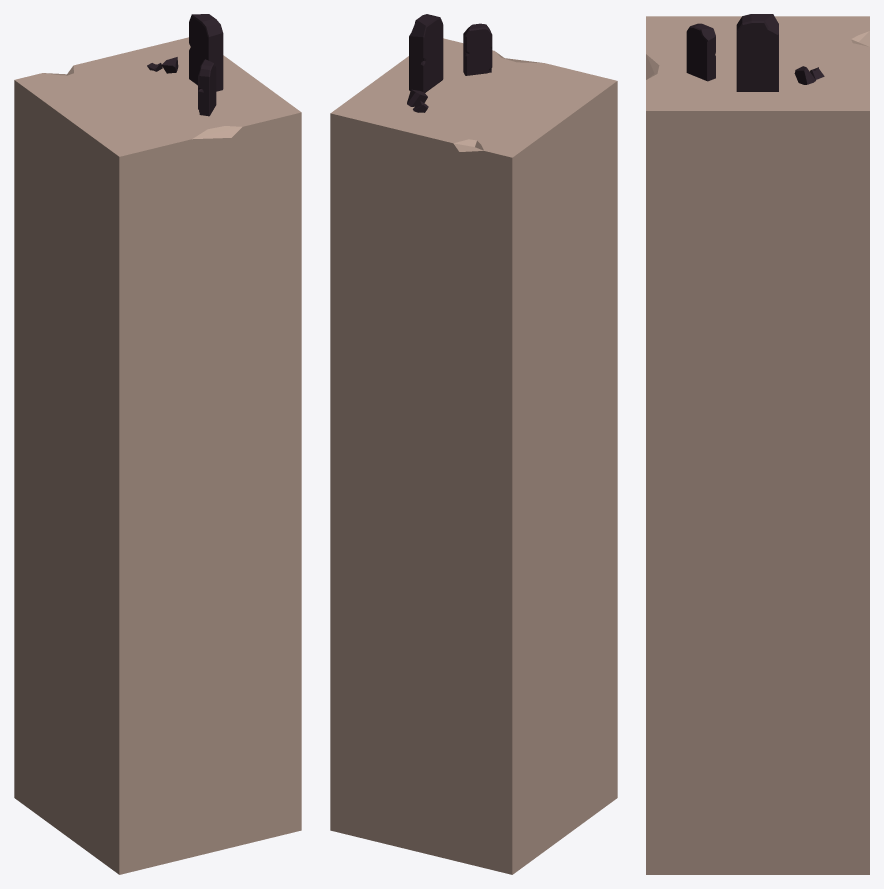
The model's file is Info.fbx.
The picture shows the model from 3 angles, left to right: view 1: azimuth 30°, elevation 25°; view 2: azimuth 150°, elevation 25°; view 3: azimuth 270°, elevation 25°; orthographic projection. The views are drawn at different scales.
Visible parts, largest first — view 1: Plataforma-L (3), Info (1), Info (1).001; view 2: Plataforma-L (3), Info (1), Info (1).001; view 3: Plataforma-L (3), Info (1), Info (1).001.
Boxes of the visible parts, bbox=[...] form: Plataforma-L (3): bbox=[14, 37, 301, 874]; Info (1): bbox=[189, 14, 223, 91]; Info (1).001: bbox=[198, 59, 216, 116]; Plataforma-L (3): bbox=[330, 38, 617, 874]; Info (1): bbox=[409, 14, 443, 92]; Info (1).001: bbox=[463, 23, 492, 75]; Plataforma-L (3): bbox=[646, 16, 869, 874]; Info (1): bbox=[736, 14, 778, 91]; Info (1).001: bbox=[686, 23, 715, 81].
Bounding box in the file's own units: 1767 × 7270 × 1767.
